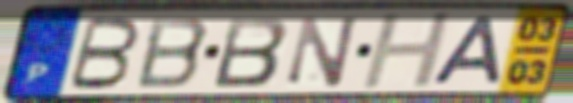A: (425, 14, 506, 86)
B: (64, 15, 144, 92), (132, 15, 213, 91), (210, 15, 292, 89)
H: (358, 10, 456, 92)
N: (284, 13, 363, 90)
